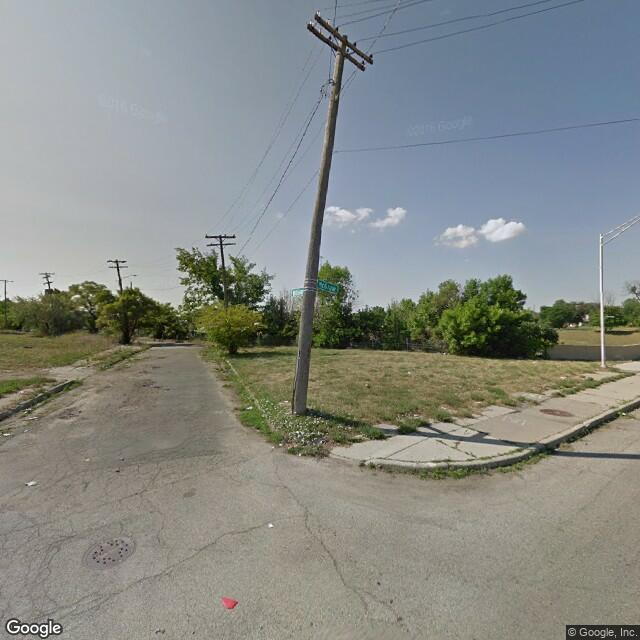litter: (216, 595, 243, 611), (1, 426, 15, 446), (241, 403, 258, 417), (23, 474, 36, 490), (262, 521, 278, 525)
